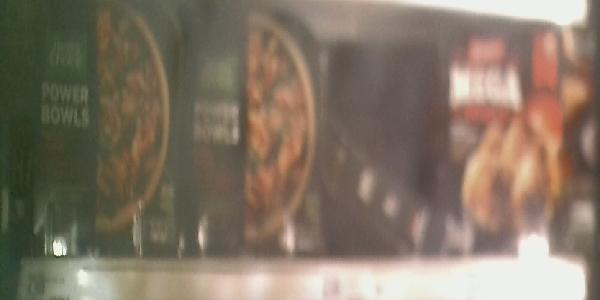pizza1: (18, 1, 183, 251), (181, 2, 329, 258), (439, 20, 566, 249)
